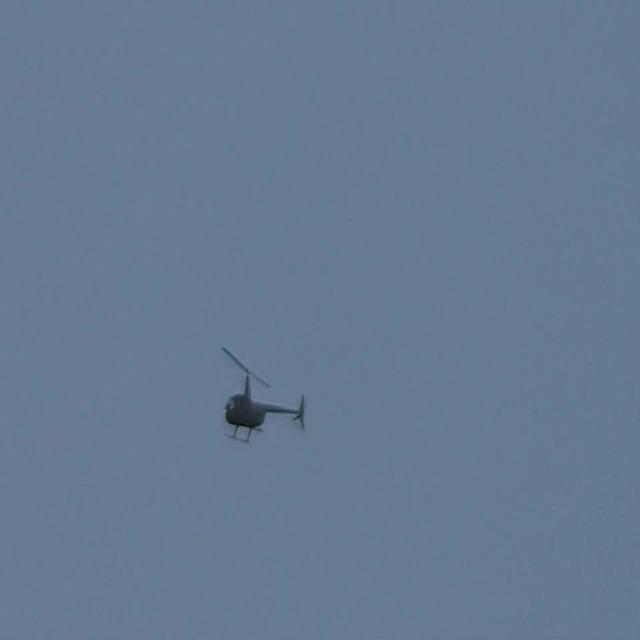CIV_HELO: (223, 369, 306, 445)
